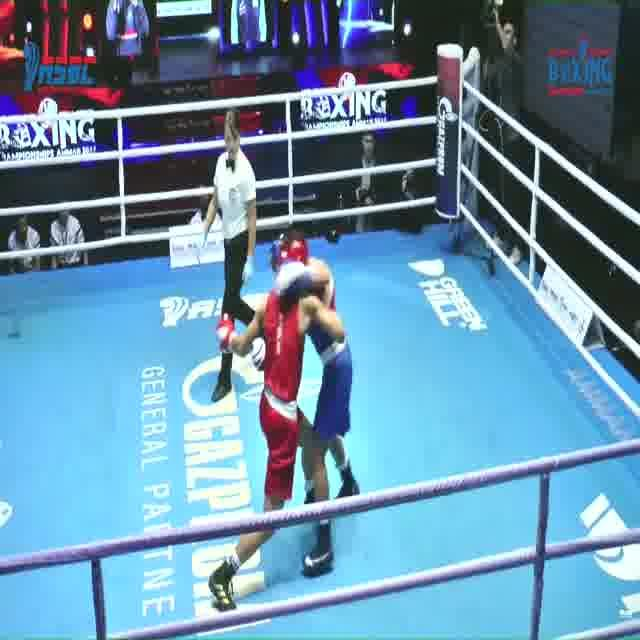blue-player: (249, 238, 362, 582)
red-player: (199, 234, 350, 616)
referee: (196, 109, 278, 402)
